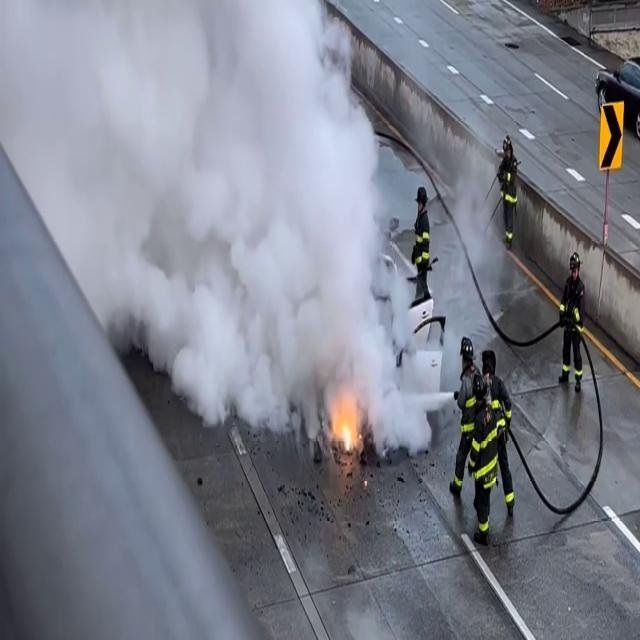Fire: (324, 379, 366, 469)
Smoke: (11, 0, 403, 446), (436, 93, 510, 361)
